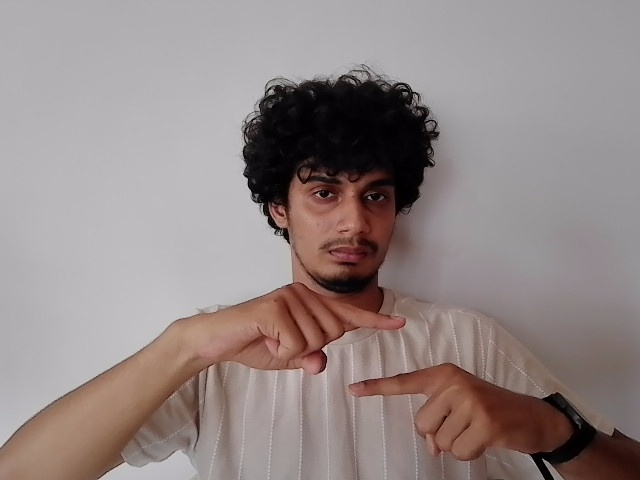about: (174, 283, 528, 466)
